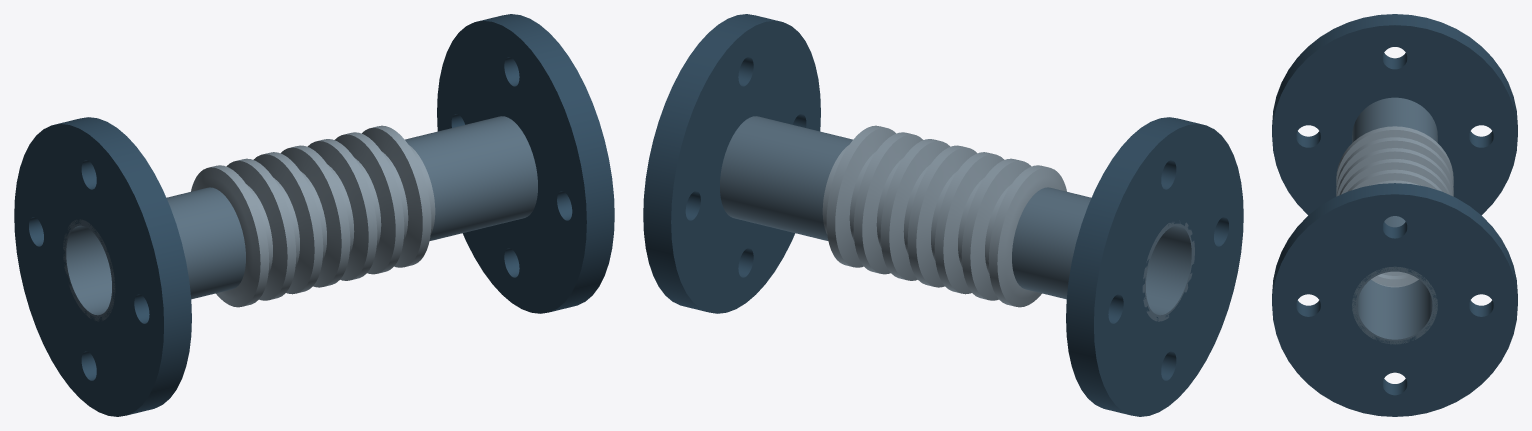
The model's file is flan-dn40-L240-D48_3-f-o145.glb.
The picture shows the model from 3 angles, left to right: view 1: azimuth 30°, elevation 25°; view 2: azimuth 150°, elevation 25°; view 3: azimuth 270°, elevation 25°; orthographic projection. The views are drawn at different scales.
Visible parts, largest first — view 1: homut_flanec_1, homut_flanec_2, prokladka_silfon_1, patrubok_2, patrubok_1; view 2: homut_flanec_1, homut_flanec_2, prokladka_silfon_1, patrubok_2, patrubok_1; view 3: homut_flanec_2, homut_flanec_1, prokladka_silfon_1, patrubok_2, patrubok_1.
Boxes of the visible parts, x1=… form: homut_flanec_1: x1=14, y1=117, x2=191, y2=416; homut_flanec_2: x1=437, y1=14, x2=614, y2=313; prokladka_silfon_1: x1=191, y1=125, x2=435, y2=307; patrubok_2: x1=405, y1=116, x2=537, y2=241; patrubok_1: x1=63, y1=187, x2=245, y2=321; homut_flanec_1: x1=1066, y1=117, x2=1243, y2=416; homut_flanec_2: x1=643, y1=14, x2=820, y2=313; prokladka_silfon_1: x1=822, y1=125, x2=1066, y2=307; patrubok_2: x1=720, y1=116, x2=852, y2=241; patrubok_1: x1=1012, y1=187, x2=1194, y2=321; homut_flanec_2: x1=1272, y1=183, x2=1517, y2=416; homut_flanec_1: x1=1272, y1=14, x2=1517, y2=215; prokladka_silfon_1: x1=1336, y1=126, x2=1453, y2=287; patrubok_2: x1=1352, y1=216, x2=1437, y2=344; patrubok_1: x1=1352, y1=97, x2=1437, y2=142.
Size of the model in its own units: 240 by 138 by 138.
